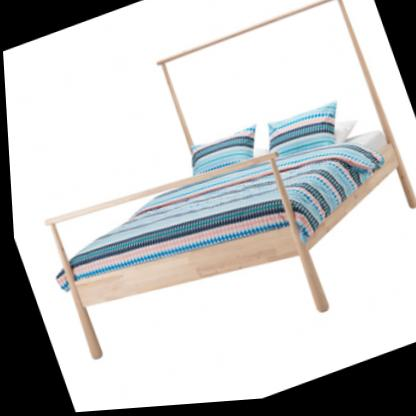Bed: (1, 0, 416, 399)
